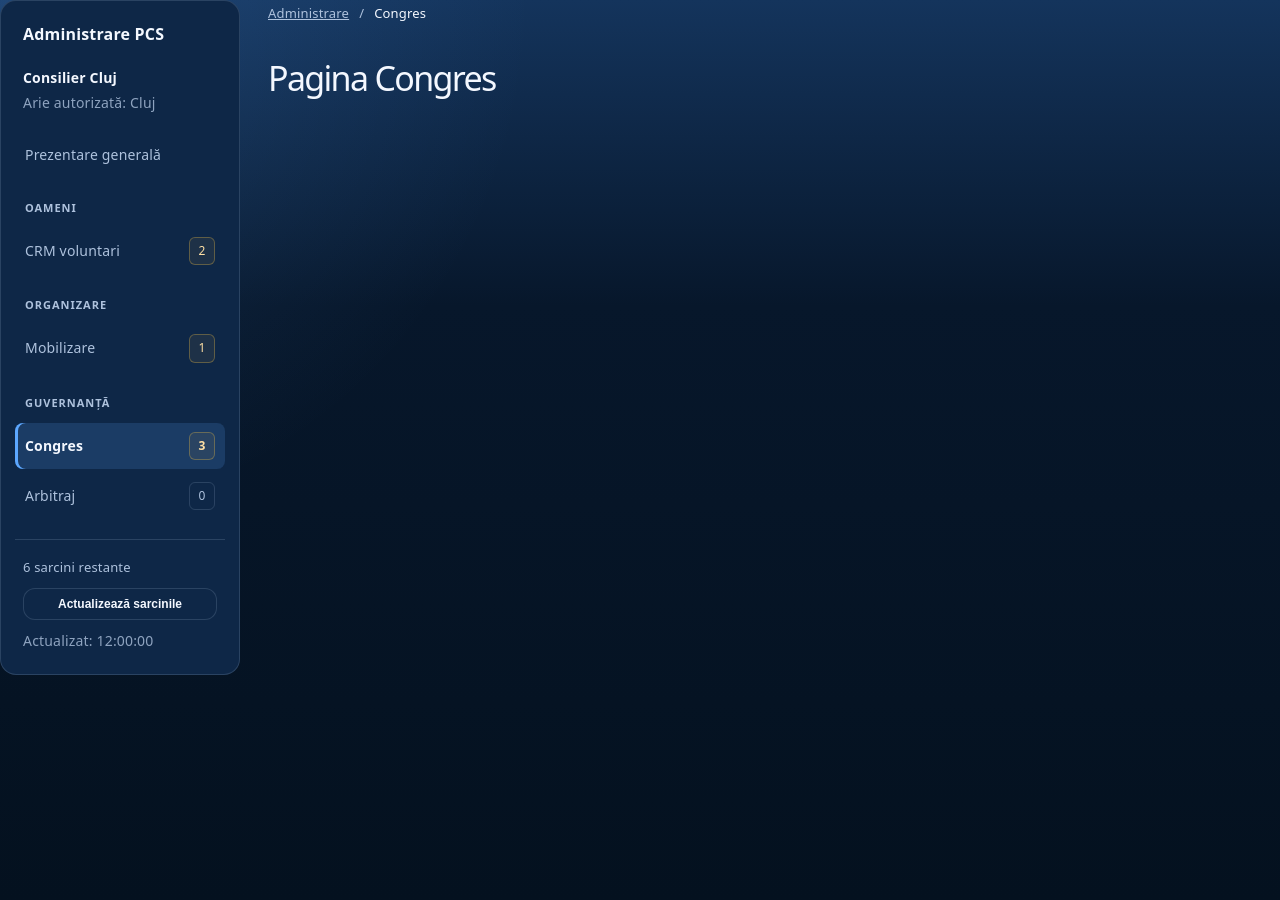
shared administrative shell › uses effective capabilities, scoped counts and an active link on every route
Check: the text "6 sarcini restante" is shown, box [23,558,131,576]
Check: the text "Arie autorizată: Cluj" is shown, box [23,93,156,112]
Click the link "Arbitraj 0" at (50, 495), box [15,473,225,519]
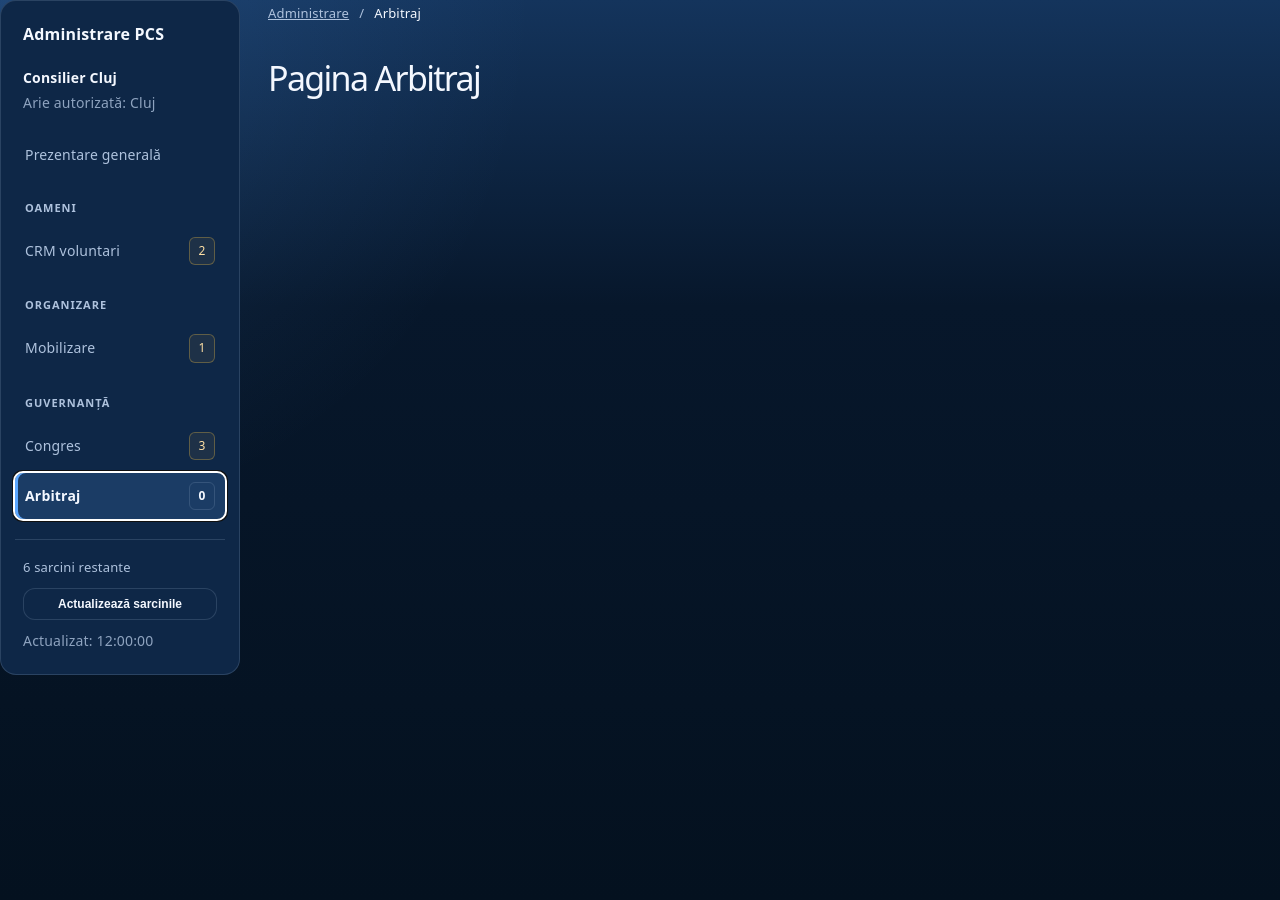
Check: the heading "Pagina Arbitraj" is shown, box [268,55,480,101]
